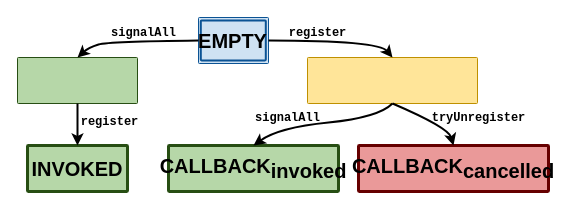
This 571x210 diagram has some shape labels left out. Here are the shapes that lost their labels. From the top down, the centre of each, then its label:
At (77,80): "SIGNALLED".
At (392,80): "CALLBACK waiting".
